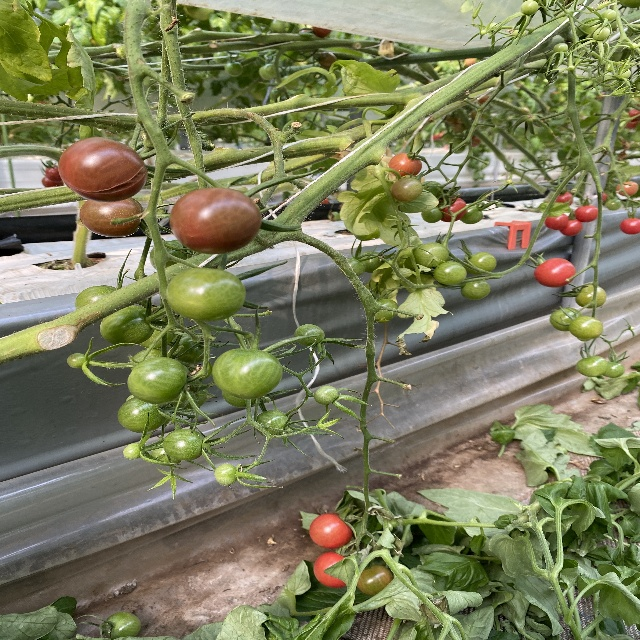l_fully_ripened: (309, 513, 353, 549), (534, 258, 576, 287), (314, 552, 346, 588), (436, 196, 467, 222), (575, 205, 600, 223), (545, 213, 570, 231), (560, 220, 583, 236), (619, 218, 640, 235)
l_green: (165, 267, 247, 322), (212, 348, 284, 400), (128, 358, 187, 404), (99, 305, 156, 347), (118, 397, 168, 434), (162, 429, 206, 460), (149, 240, 191, 272), (138, 316, 176, 349), (170, 381, 208, 411), (74, 285, 118, 310), (103, 612, 141, 639), (130, 348, 173, 371), (413, 242, 449, 268), (255, 410, 289, 437), (174, 336, 205, 365), (575, 284, 607, 309), (150, 442, 182, 467), (433, 261, 466, 285), (569, 316, 603, 339), (391, 177, 422, 202), (550, 307, 582, 331), (464, 252, 497, 275), (576, 355, 608, 377), (294, 324, 325, 346), (369, 299, 398, 322), (222, 390, 258, 408), (358, 251, 385, 274), (461, 281, 490, 301), (338, 258, 365, 278), (459, 204, 483, 225), (314, 385, 339, 405), (215, 464, 237, 486), (601, 362, 626, 378), (422, 181, 444, 199), (421, 207, 443, 223), (67, 353, 86, 369), (520, 0, 539, 15), (124, 443, 140, 459), (593, 27, 610, 40), (601, 9, 617, 22), (553, 43, 568, 53)
l_half_ripened: (170, 188, 262, 254), (58, 137, 147, 203), (80, 198, 144, 238), (357, 565, 393, 596), (389, 153, 422, 177)
